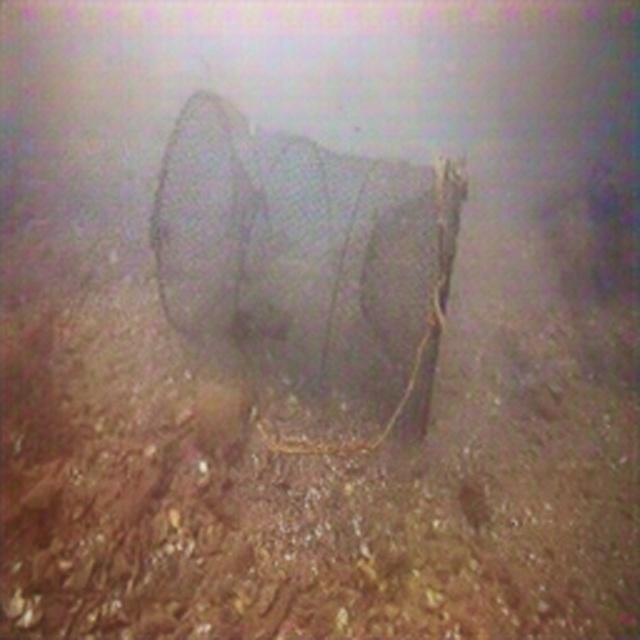mine: (152, 87, 465, 446)
